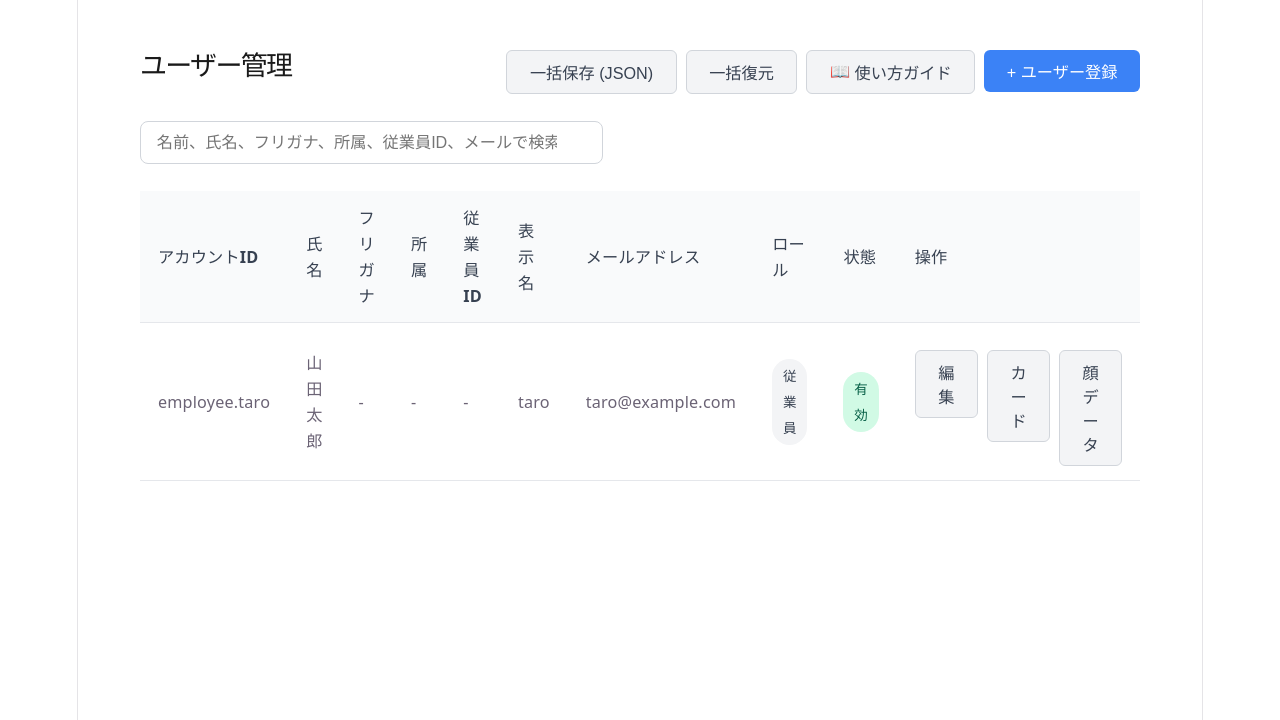
Test: UserManagementPage › ユーザー編集フォームで情報を更新できる
The image size is (1280, 720).
Expected: the text "山田 太郎" is shown, [288,323,340,481]
Click the button "編集".
click(946, 384)  # box [915,350,978,418]
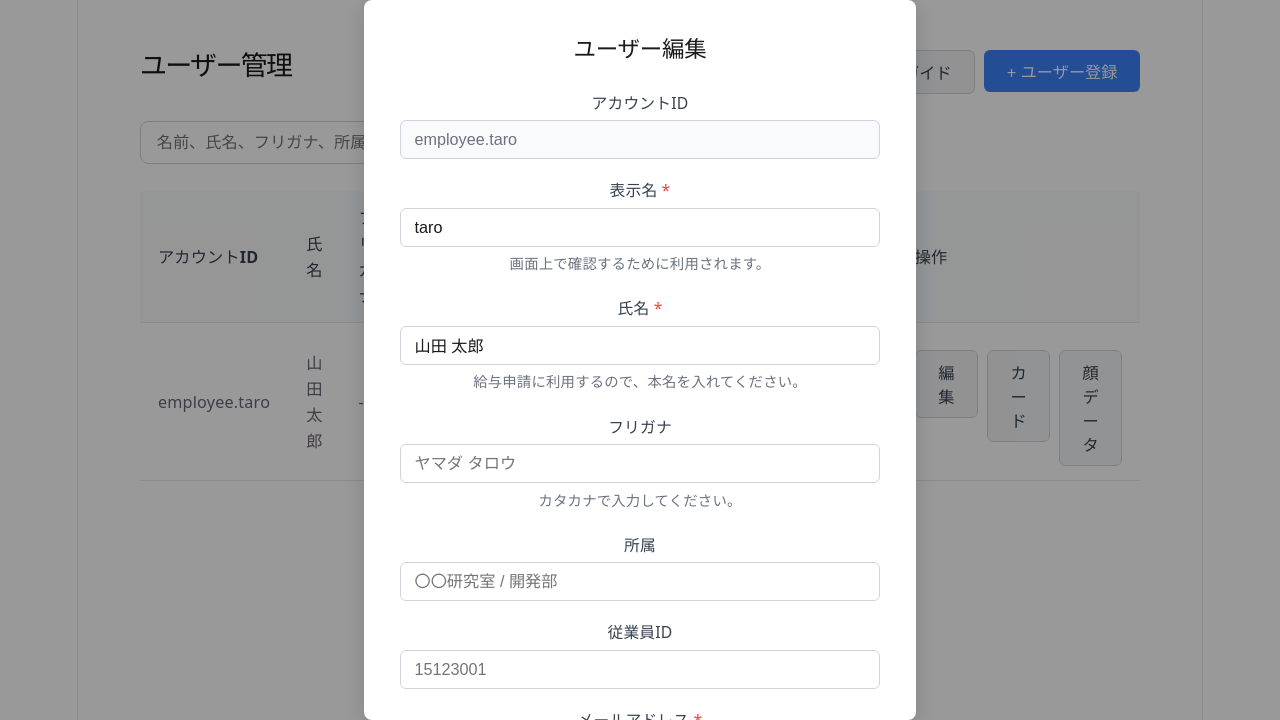
Expected: the dialog "ユーザー編集" is shown
Replace the text in the field labelled "表示名 *" with "taro2" at point(640, 227), box [400,208,880,247]
(page scrolled)
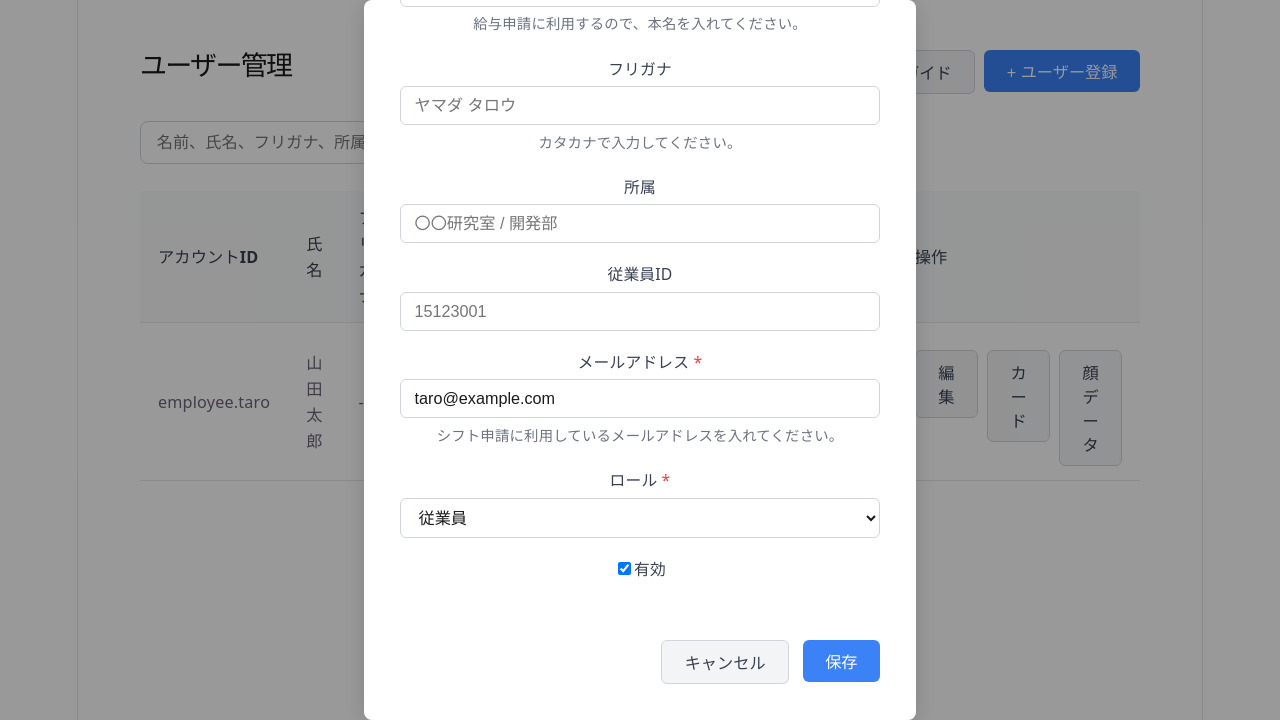
Click the button "保存".
click(841, 661)  # box [803,640,880,682]
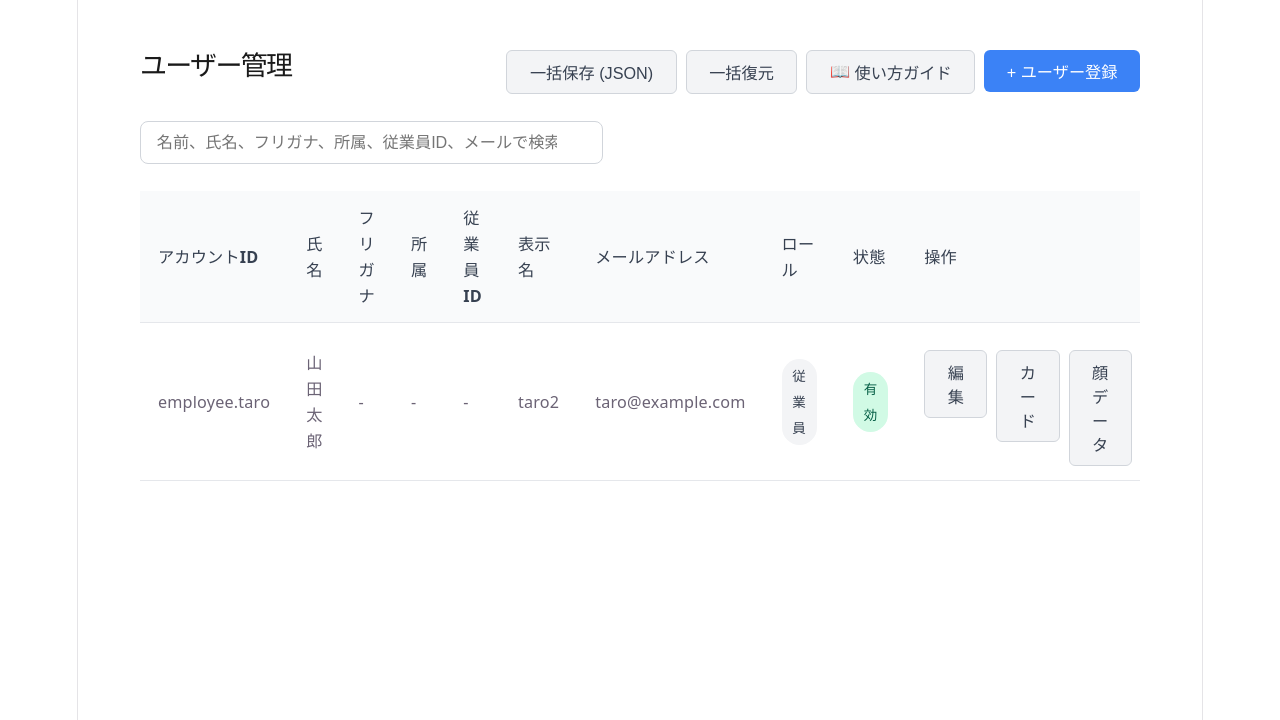
Expected: the dialog is gone
